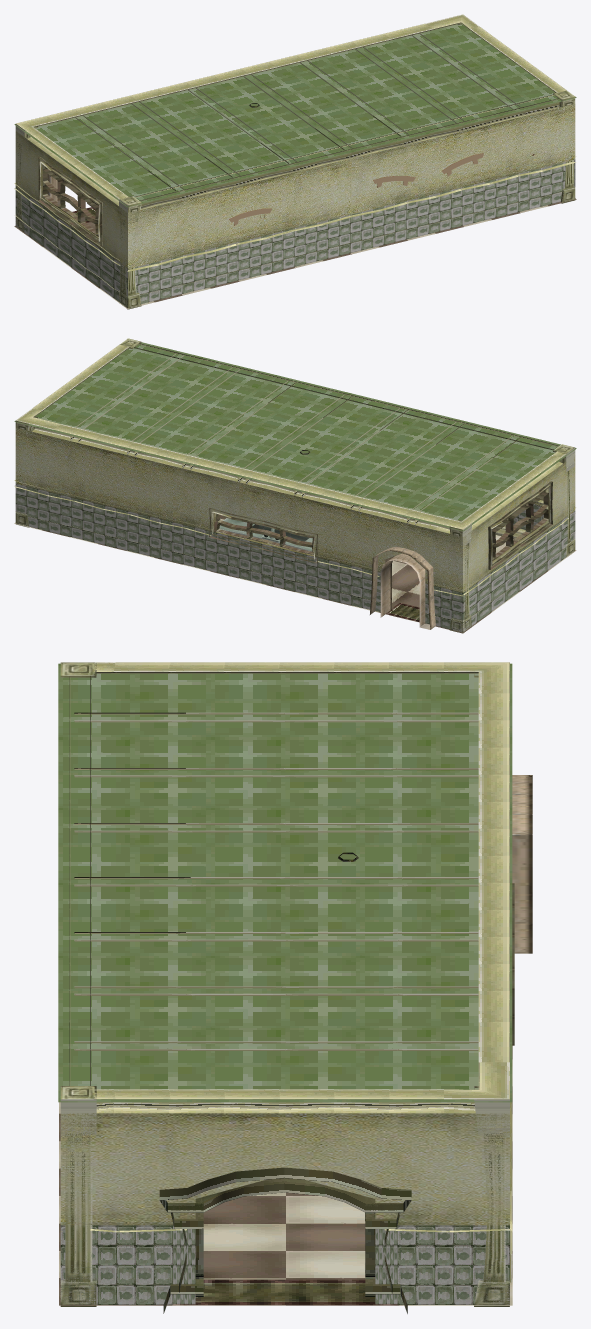
The model's file is kitchen.obj.
The picture shows the model from 3 angles, top to bottom: view 1: azimuth 30°, elevation 25°; view 2: azimuth 150°, elevation 25°; view 3: azimuth 270°, elevation 25°; orthographic projection. The views are drawn at different scales.
Visible parts, largest first — view 1: part1_texture20, part0_texture3, part1_texture7, part3_texture5, part8_texture7, part3_texture3.001, part18_texture5, part5_texture5.001, part11_texture5, part0_texture1, part1_texture0, part14_texture12 (+2 smaller); view 2: part1_texture20, part2_texture3, part7_texture7.001, part18_texture5, part0_texture1, part8_texture7, part3_texture3.001, part3_texture5, part5_texture5.001, part6_texture6.001, part1_texture0, part14_texture12 (+4 smaller); view 3: part1_texture20, part3_texture3.001, part7_texture7.001, part3_texture5, part5_texture5.001, part14_texture12, part18_texture5, part1_texture0, part16_texture2, part15_texture13, part6_texture6.001.
Part boxes in pixels (bbox=[...]): part1_texture20: bbox=[14, 23, 576, 207]; part0_texture3: bbox=[128, 104, 575, 268]; part1_texture7: bbox=[135, 162, 565, 303]; part3_texture5: bbox=[75, 33, 559, 208]; part8_texture7: bbox=[15, 187, 127, 307]; part3_texture3.001: bbox=[15, 131, 127, 268]; part18_texture5: bbox=[14, 14, 462, 183]; part5_texture5.001: bbox=[14, 14, 566, 291]; part11_texture5: bbox=[127, 94, 575, 294]; part0_texture1: bbox=[38, 157, 102, 245]; part1_texture0: bbox=[15, 23, 575, 309]; part14_texture12: bbox=[14, 198, 576, 308]; part1_texture20: bbox=[14, 342, 576, 531]; part2_texture3: bbox=[15, 428, 462, 592]; part7_texture7.001: bbox=[15, 484, 462, 631]; part18_texture5: bbox=[14, 417, 463, 621]; part0_texture1: bbox=[209, 481, 552, 569]; part8_texture7: bbox=[463, 511, 575, 632]; part3_texture3.001: bbox=[463, 455, 575, 592]; part3_texture5: bbox=[70, 343, 558, 524]; part5_texture5.001: bbox=[14, 344, 568, 621]; part6_texture6.001: bbox=[370, 546, 435, 629]; part1_texture0: bbox=[15, 338, 575, 633]; part14_texture12: bbox=[14, 516, 576, 633]; part1_texture20: bbox=[58, 663, 512, 1102]; part3_texture3.001: bbox=[60, 1113, 509, 1225]; part7_texture7.001: bbox=[60, 1225, 509, 1304]; part3_texture5: bbox=[69, 676, 478, 1085]; part5_texture5.001: bbox=[90, 662, 511, 1285]; part14_texture12: bbox=[59, 1046, 512, 1305]; part18_texture5: bbox=[478, 662, 512, 1282]; part1_texture0: bbox=[60, 662, 509, 1306]; part16_texture2: bbox=[159, 1167, 411, 1313]; part15_texture13: bbox=[173, 1279, 397, 1305]; part6_texture6.001: bbox=[512, 775, 532, 953].
Size of the model in its own units: 9.24 by 1.99 by 4.12.
